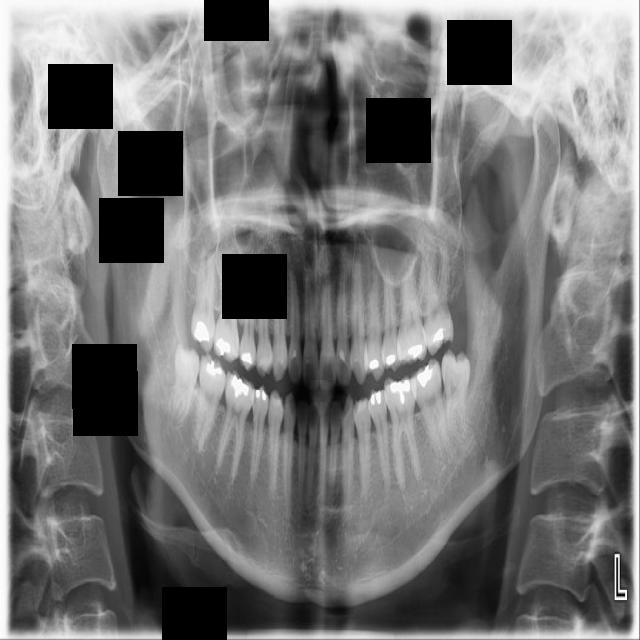52: (411, 301, 467, 356), (403, 356, 451, 410), (383, 374, 420, 428), (392, 319, 432, 367), (222, 368, 257, 421), (198, 352, 227, 406), (212, 316, 242, 364), (361, 331, 386, 382), (191, 304, 216, 353), (380, 327, 403, 372), (237, 325, 258, 372), (367, 387, 388, 431), (335, 339, 353, 386), (251, 382, 269, 428), (288, 335, 302, 384)
73: (576, 564, 582, 574)
BioHorizons Implant: (418, 234, 455, 357)
Biomet 3i Implant: (440, 346, 475, 445)
Blue Sky Bio Implant: (408, 355, 450, 458)
Caries: (189, 247, 217, 353)
Implant: (194, 352, 228, 450)
Keystone Dental Implant: (170, 344, 202, 432)
